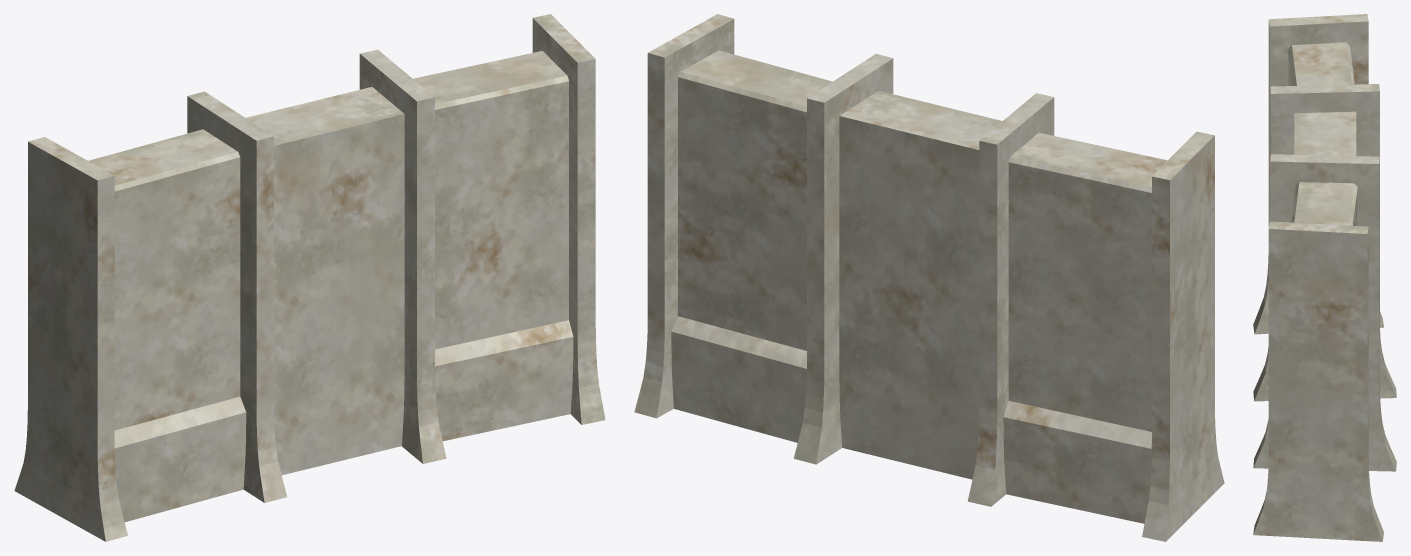
The model's file is aot_wall.fbx.
The picture shows the model from 3 angles, left to right: view 1: azimuth 30°, elevation 25°; view 2: azimuth 150°, elevation 25°; view 3: azimuth 270°, elevation 25°; orthographic projection. The views are drawn at different scales.
Parts seen in each view (by area): view 1: Object002, Object001; view 2: Object002, Object001; view 3: Object001, Object002.
Part boxes in pixels (bbox=[...]): Object002: bbox=[88, 51, 573, 522]; Object001: bbox=[14, 14, 605, 541]; Object002: bbox=[671, 50, 1167, 523]; Object001: bbox=[634, 14, 1224, 541]; Object001: bbox=[1253, 14, 1396, 541]; Object002: bbox=[1288, 42, 1357, 225].
Size of the model in its own units: 9246 by 5886 by 2506.
